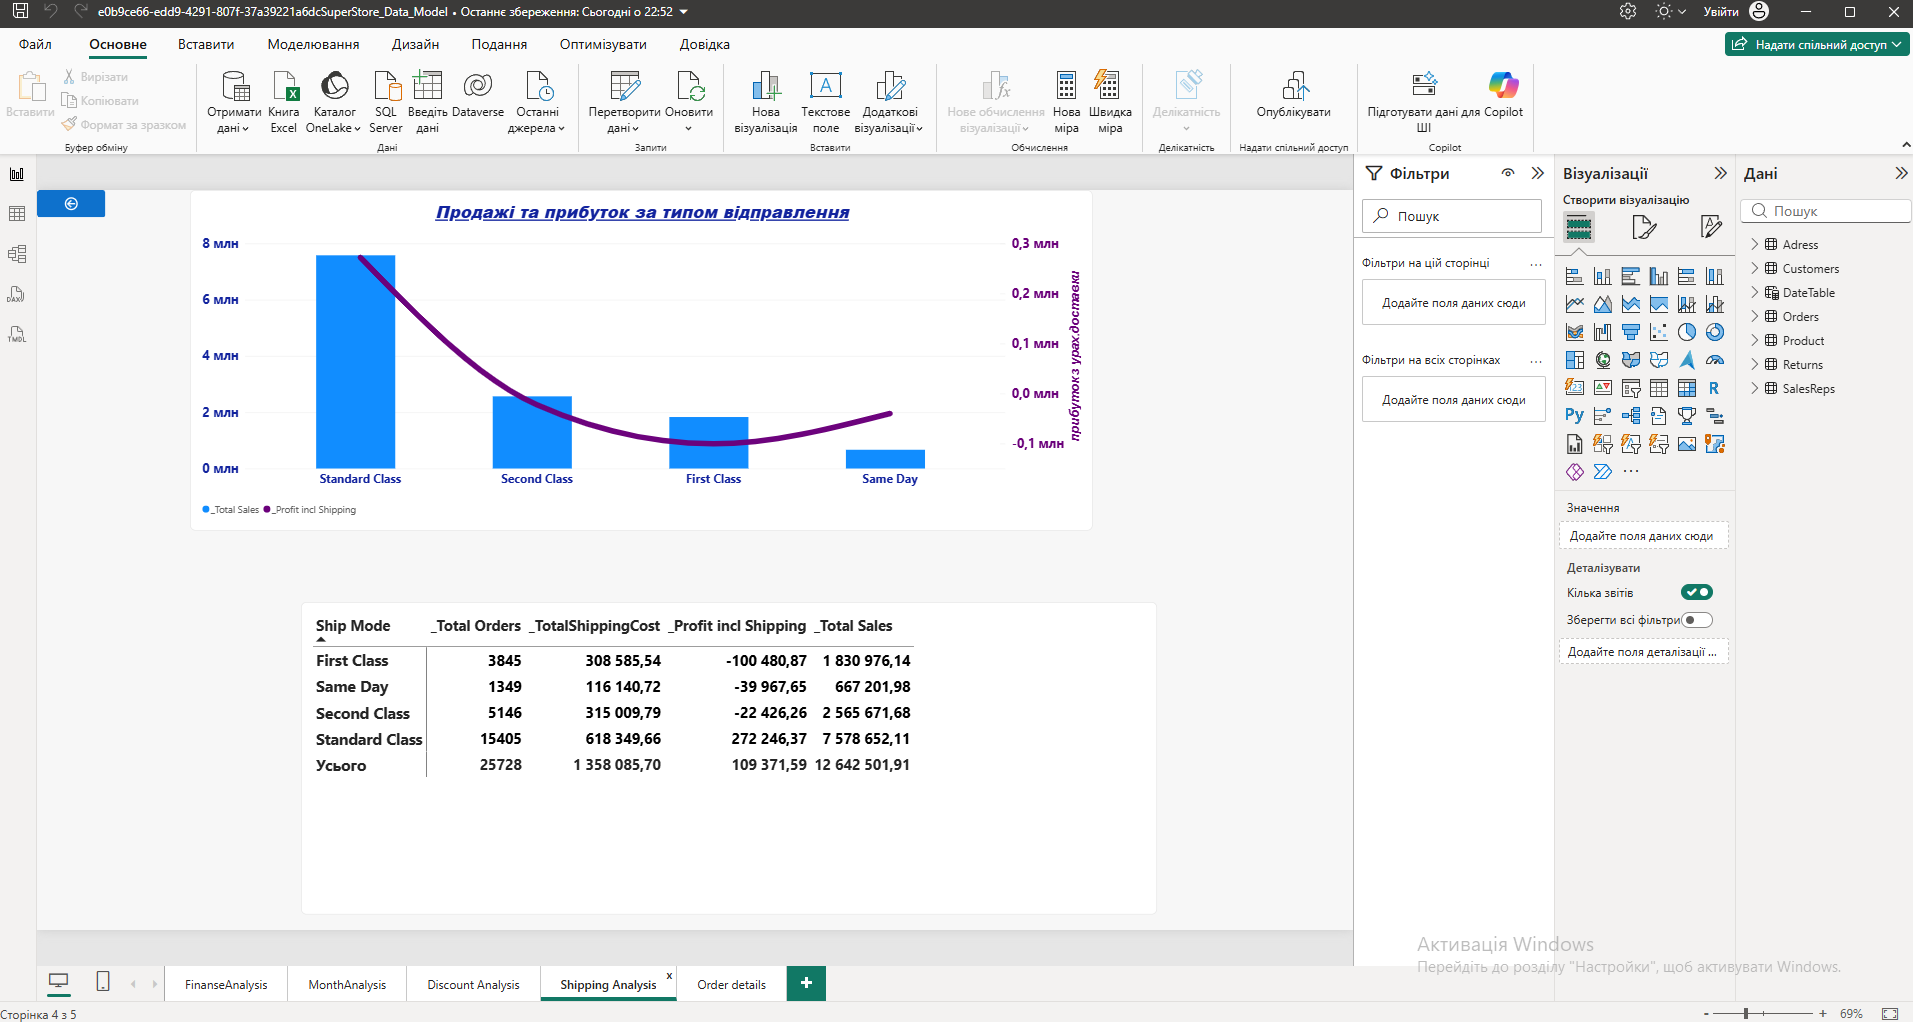

What the dashboard file says about the page in this screenshot:
{"tool":"powerbi","page":{"name":"Shipping Analysis","canvas":[1920,1080],"ordinal":3},"visuals":[{"type":"lineClusteredColumnComboChart","title":"Продажі та прибуток за типом відправлення","fields":{"Category":["Orders.Ship Mode"],"Y":["Orders._Total Sales"],"Y2":["Orders._Profit incl Shipping"]},"box":[222.6,0,1316.8,497.4],"z":0},{"type":"pivotTable","fields":{"Rows":["Orders.Ship Mode"],"Values":["Orders._Total Orders","Orders._TotalShippingCost","Orders._Profit incl Shipping","Orders._Total Sales"]},"box":[385.3,601.6,1248.9,456.3],"z":1},{"type":"actionButton","box":[0,0,100,40],"z":2}]}

Visuals, with their boxes on the page's 1920x1080 design canvas (x1, y1, x2, y2). These are canvas units, not pixel positions in the 1913x1022 screenshot, which may show the page scaled, cropped or inside an application window:
"Продажі та прибуток за типом відправлення" lineClusteredColumnComboChart: bbox(223, 0, 1539, 497)
pivotTable - Orders.Ship Mode x Orders._Total Orders: bbox(385, 602, 1634, 1058)
actionButton: bbox(0, 0, 100, 40)
